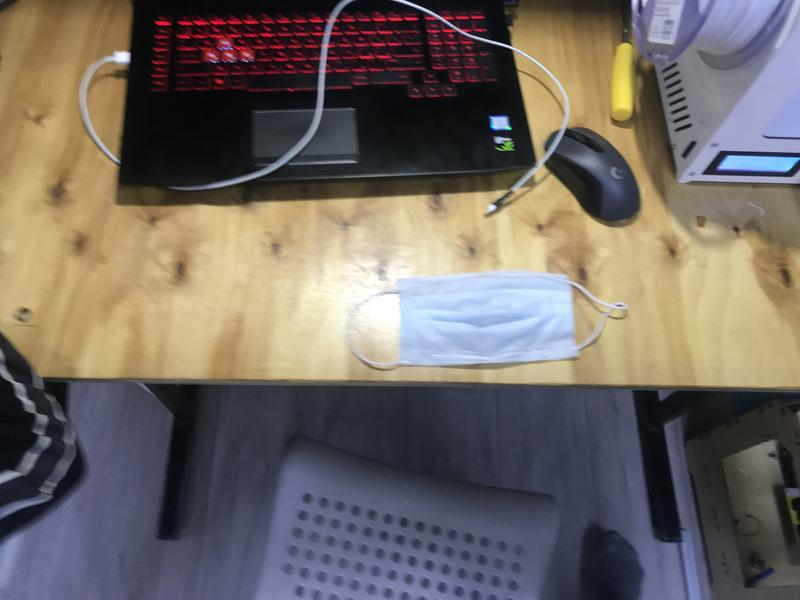medical_mask: (348, 272, 630, 368)
